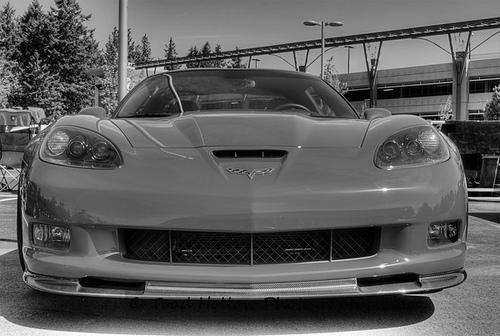car: (14, 63, 478, 320)
